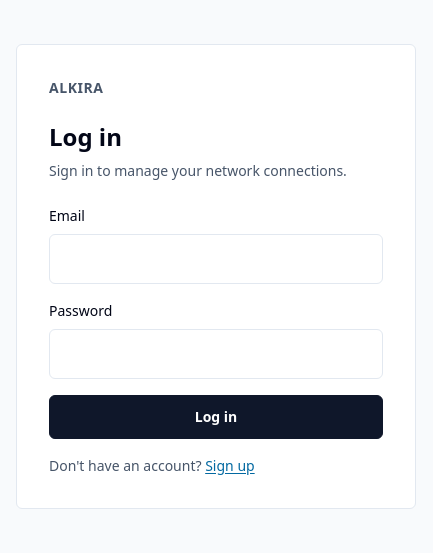
Scenario: LoginPage › shows validation errors on empty submission
Click the button "Log in": [216, 416] box [49,394,383,438]
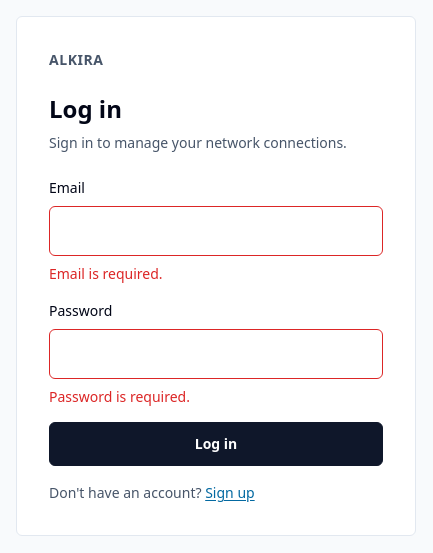
Check: the text "Email is required." is shown, box [49,264,163,283]
Check: the text "Password is required." is shown, box [49,386,190,406]
